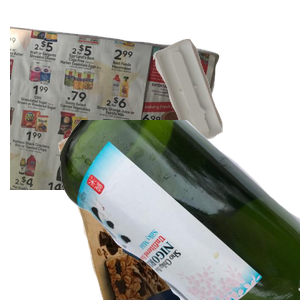glass: (60, 120, 300, 300)
paper: (10, 21, 222, 201)
plastic: (150, 36, 300, 173)
trash: (56, 120, 229, 300)
